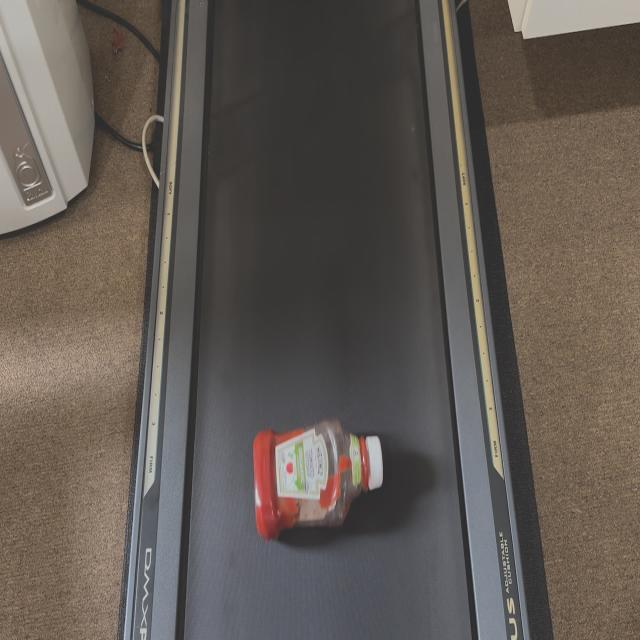Trash: (252, 416, 384, 542)
